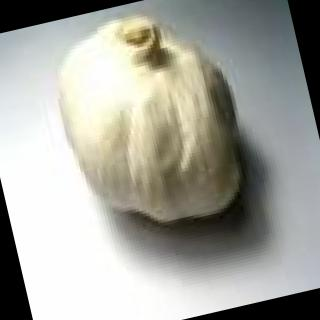Bawang Putih: (43, 1, 276, 248)
